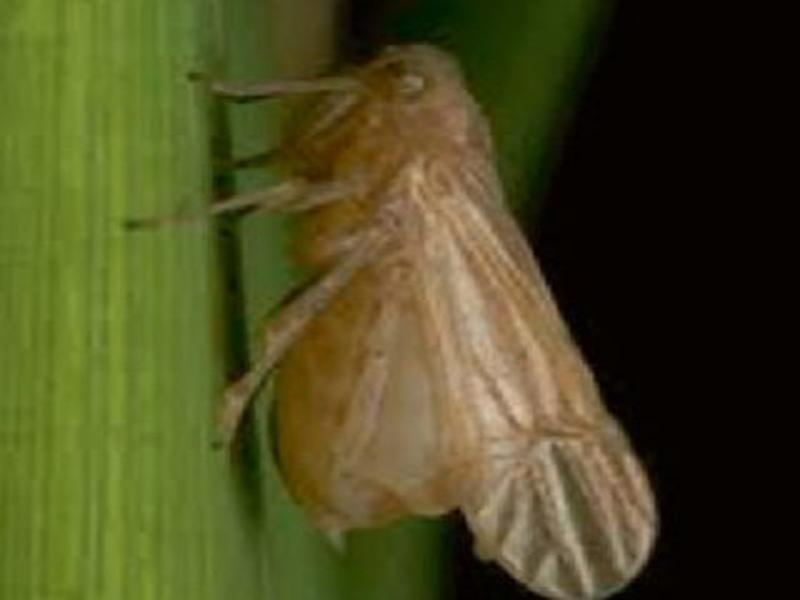Brown_plant_leafhopper: (180, 39, 670, 594)
